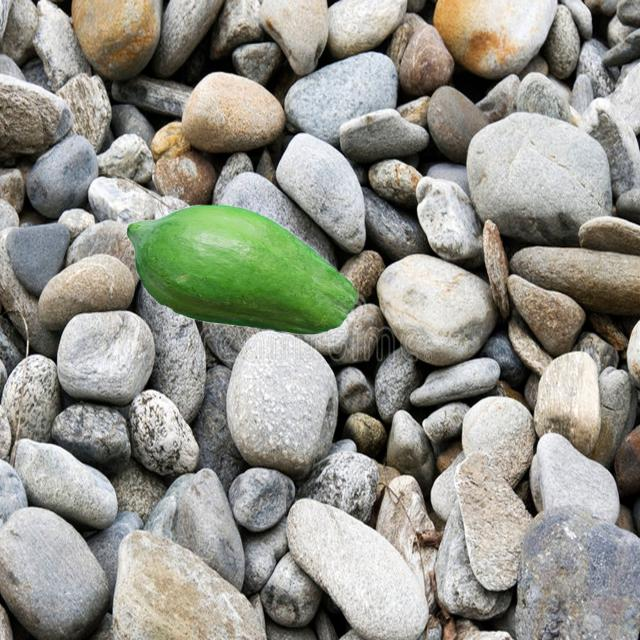Pepaya unrippen: (117, 200, 363, 335)
